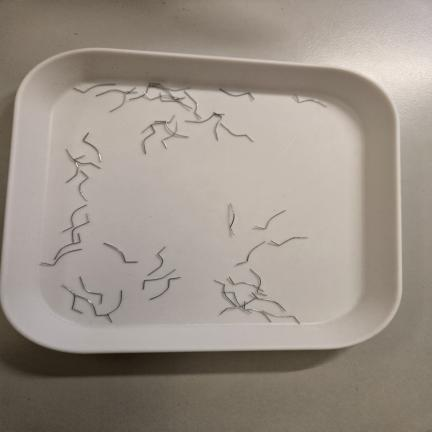probe: (215, 121, 254, 142), (103, 243, 138, 263), (62, 204, 87, 232), (236, 241, 265, 265), (150, 277, 180, 299), (254, 210, 286, 230), (143, 269, 175, 289), (80, 276, 102, 304), (82, 133, 101, 162), (73, 83, 116, 93), (219, 88, 254, 100), (294, 95, 327, 107), (271, 236, 308, 246), (148, 252, 163, 275), (79, 171, 89, 200), (230, 203, 235, 235), (195, 117, 211, 123), (214, 113, 224, 119), (160, 247, 165, 252)
